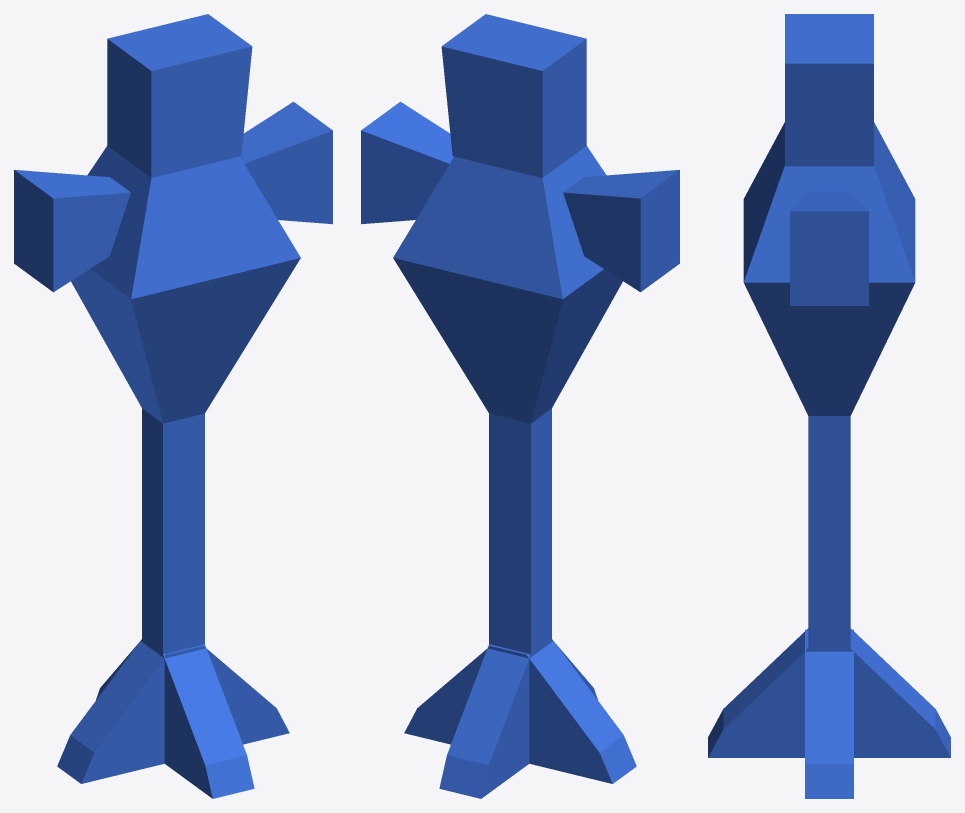
Rendered from Collision_Dummy.fbx.
3 views of the same model, side by side, from view 1: azimuth 30°, elevation 25°; view 2: azimuth 150°, elevation 25°; view 3: azimuth 270°, elevation 25° (orthographic).
Visible parts, largest first — view 1: UCX_Dummy_4, UCX_Dummy_5, UCX_Dummy_3, UCX_Dummy_1, UCX_Dummy_6, UCX_Dummy_2, UCX_Dummy_7; view 2: UCX_Dummy_4, UCX_Dummy_5, UCX_Dummy_3, UCX_Dummy_1, UCX_Dummy_6, UCX_Dummy_2, UCX_Dummy_7; view 3: UCX_Dummy_4, UCX_Dummy_2, UCX_Dummy_5, UCX_Dummy_3, UCX_Dummy_7, UCX_Dummy_1.
Part boxes in pixels (<box>): UCX_Dummy_4: <box>71,146,300,423</box>; UCX_Dummy_5: <box>107,14,252,177</box>; UCX_Dummy_3: <box>142,408,204,654</box>; UCX_Dummy_1: <box>57,641,289,783</box>; UCX_Dummy_6: <box>14,169,130,292</box>; UCX_Dummy_2: <box>96,639,254,798</box>; UCX_Dummy_7: <box>240,101,332,224</box>; UCX_Dummy_4: <box>393,146,622,423</box>; UCX_Dummy_5: <box>441,14,586,177</box>; UCX_Dummy_3: <box>489,408,551,654</box>; UCX_Dummy_1: <box>404,641,636,783</box>; UCX_Dummy_6: <box>563,169,679,292</box>; UCX_Dummy_2: <box>439,639,597,798</box>; UCX_Dummy_7: <box>361,101,453,224</box>; UCX_Dummy_4: <box>743,122,915,415</box>; UCX_Dummy_2: <box>708,628,950,757</box>; UCX_Dummy_5: <box>785,14,873,166</box>; UCX_Dummy_3: <box>808,416,850,648</box>; UCX_Dummy_7: <box>790,190,868,305</box>; UCX_Dummy_1: <box>805,629,853,798</box>.
Size of the model in its own units: 78.04 by 188 by 58.26.
